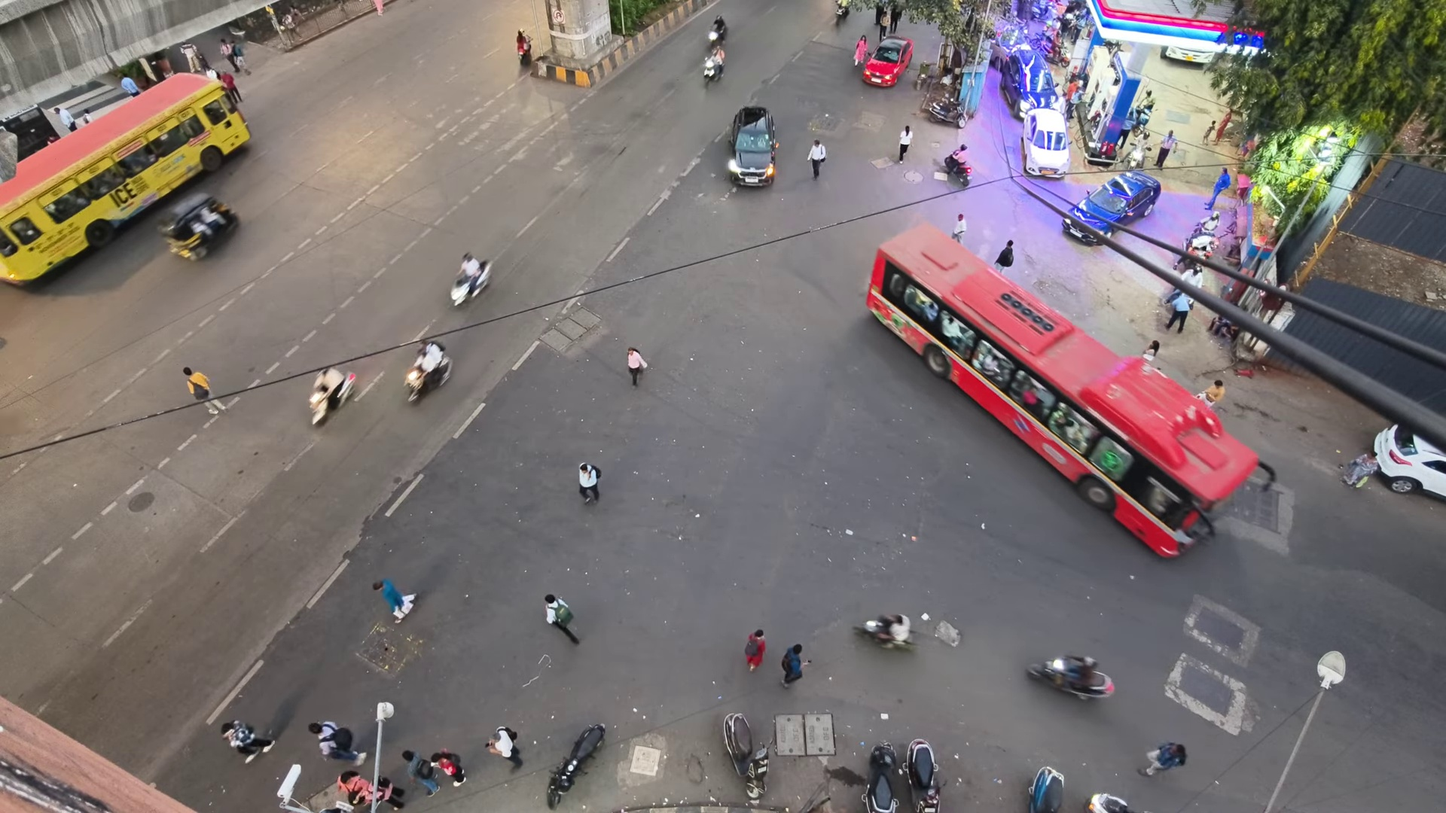walking: (307, 722, 365, 765), (337, 771, 404, 808), (221, 720, 273, 763), (183, 367, 225, 414), (374, 579, 415, 623), (401, 751, 438, 795), (545, 594, 577, 644), (1139, 742, 1185, 775), (487, 726, 522, 769), (431, 750, 465, 786), (782, 644, 810, 687), (1164, 293, 1192, 333), (1204, 168, 1230, 209), (744, 629, 767, 671), (1196, 379, 1225, 409), (578, 462, 599, 503), (1155, 129, 1177, 168), (219, 72, 242, 104), (627, 349, 646, 385), (231, 40, 250, 75), (1214, 109, 1233, 143), (219, 38, 239, 70), (993, 240, 1013, 272), (809, 139, 825, 178), (898, 125, 914, 163), (53, 106, 76, 131), (1182, 263, 1203, 287), (120, 76, 140, 97), (878, 10, 891, 41), (953, 213, 966, 244), (1201, 120, 1217, 145), (1142, 340, 1160, 362), (856, 35, 868, 66), (889, 2, 901, 33), (875, 0, 885, 23)
